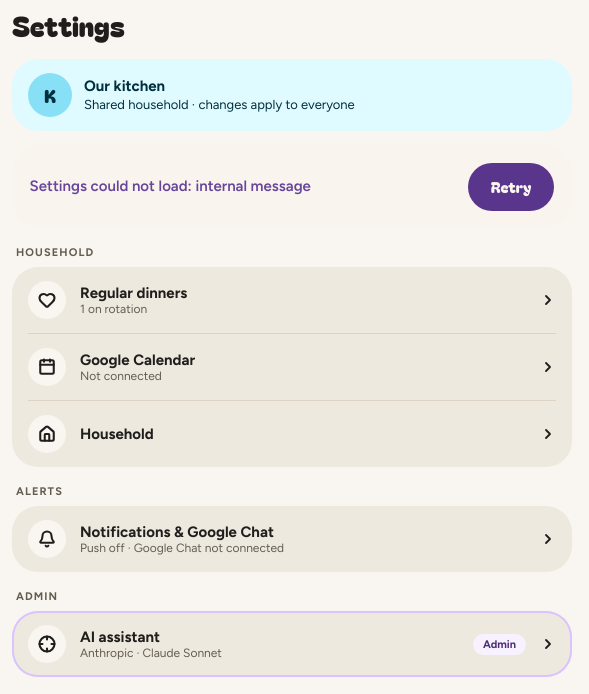
SettingsPage › reports a failed status with a retry that loads it
The image size is (589, 694).
Expected: the message shows "Settings could not load: internal message", [12,145,572,228]
Expected: the text "Anthropic · Claude Sonnet" is shown, [80,646,222,660]
Click the button "Retry" at (511, 187), box [468,163,554,211]
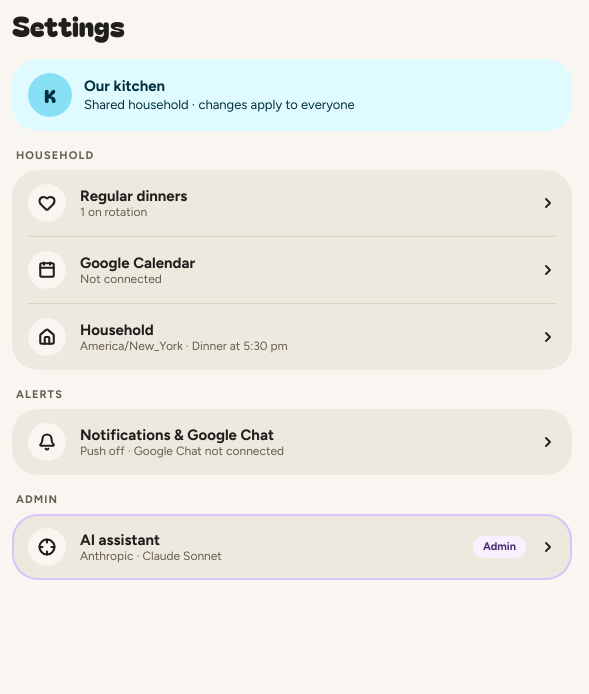
Result: the text "America/New_York · Dinner at 5:30 pm" is shown at [80,339,288,353]
Result: the message "Settings could not load: internal message Retry" is gone
